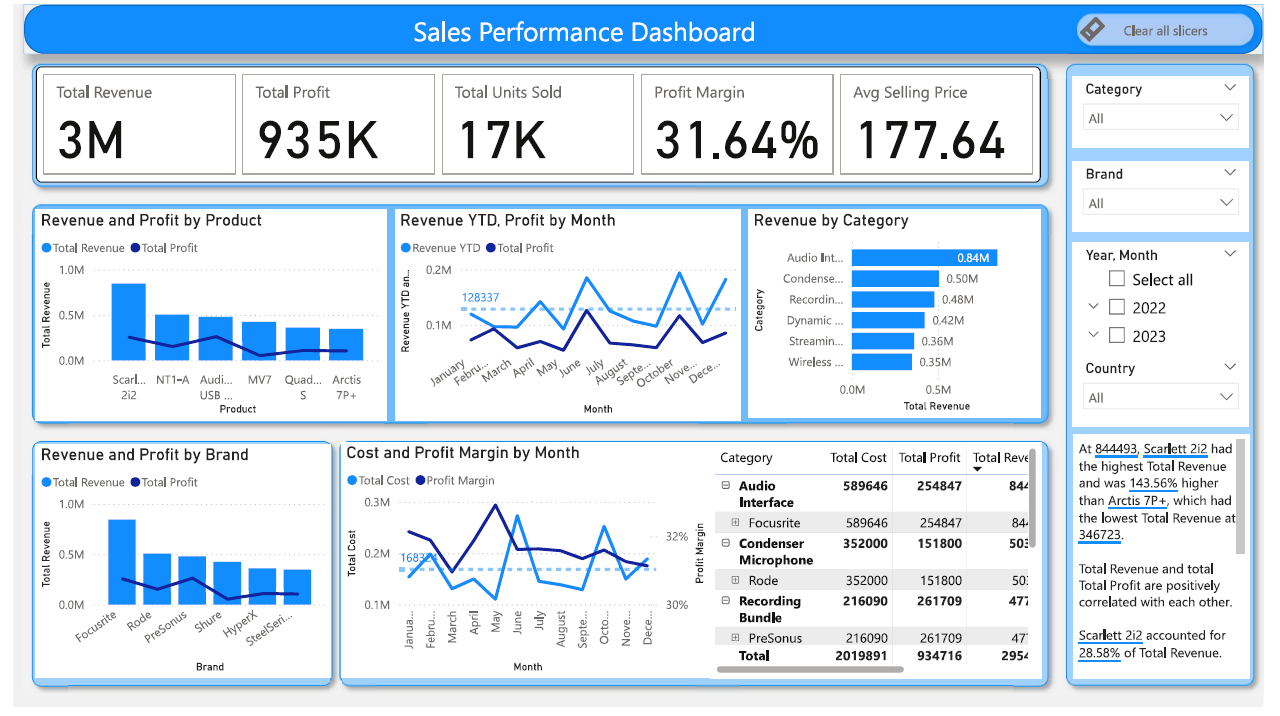

What the dashboard file says about the page in this screenshot:
{"tool":"powerbi","page":{"name":"Sales Performance DB","canvas":[1280,720],"ordinal":0},"visuals":[{"type":"shape","box":[10,0,1270.1,52.2],"z":0},{"type":"shape","box":[1068.6,52.2,211.5,654.3],"z":1000},{"type":"shape","box":[9.6,52.1,1059.4,144.1],"z":2000},{"type":"shape","box":[9.6,196.2,1059.4,241.5],"z":3000},{"type":"shape","box":[9.6,437.7,326.6,269],"z":4000},{"type":"shape","box":[325.2,437.7,743.7,269],"z":5000},{"type":"cardVisual","fields":{"Data":["Calculations.Total Revenue","Calculations.Total Profit","Calculations.Total Units Sold","Calculations.Profit Margin","Calculations.Avg Selling Price"]},"box":[23.3,64.5,1029.2,118],"z":6000},{"type":"lineStackedColumnComboChart","title":"Revenue and Profit by Product","fields":{"Category":["Complied_File.Product"],"Y":["Calculations.Total Revenue"],"Y2":["Calculations.Total Profit"]},"box":[23.3,211,358.3,214.7],"z":7000},{"type":"clusteredBarChart","title":"Revenue by Category","fields":{"Category":["Complied_File.Category"],"Y":["Calculations.Total Revenue"]},"box":[753.3,211.3,299.1,211.3],"z":8000},{"type":"slicer","fields":{"Values":["Complied_File.Country"]},"box":[1084.9,360.5,180.2,72.1],"z":9000},{"type":"slicer","fields":{"Values":["Calculations.Date.Variation.Date Hierarchy.Year","Calculations.Date.Variation.Date Hierarchy.Month"]},"box":[1084.9,244.2,180.2,116.3],"z":10000},{"type":"lineChart","title":"Revenue YTD, Profit by Month","fields":{"Category":["Calculations.Date.Variation.Date Hierarchy.Month"],"Y":["Calculations.Revenue YTD","Calculations.Total Profit"]},"box":[391.4,211,352.1,214.7],"z":11000},{"type":"slicer","fields":{"Values":["Complied_File.Brand"]},"box":[1085.4,160.5,179.8,72.7],"z":12000},{"type":"slicer","fields":{"Values":["Complied_File.Category"]},"box":[1085.4,74.1,179.8,72.7],"z":13000},{"type":"lineChart","title":"Cost and Profit Margin by Month","fields":{"Category":["Calculations.Date.Variation.Date Hierarchy.Month"],"Y":["Calculations.Total Cost"],"Y2":["Calculations.Profit Margin"]},"box":[336.2,448.7,377.4,241.5],"z":14000},{"type":"pivotTable","fields":{"Rows":["Complied_File.Category","Complied_File.Brand","Complied_File.Product"],"Values":["Calculations.Total Cost","Calculations.Total Profit","Calculations.Total Revenue","Calculations.Total Units Sold"]},"box":[714.1,449.1,338.7,241.7],"z":15000},{"type":"lineClusteredColumnComboChart","title":"Revenue and Profit by Brand","fields":{"Category":["Complied_File.Brand"],"Y":["Calculations.Total Revenue"],"Y2":["Calculations.Total Profit"]},"box":[23.3,451.5,301.9,238.8],"z":16000},{"type":"textbox","box":[325.2,4.1,520.1,48],"z":17000},{"type":"actionButton","box":[1079.9,1.4,200.3,49.4],"z":18000},{"type":"textbox","box":[1086,440.7,180.2,250],"z":19000}]}

Visuals, with their boxes in screenshot pixels (x1, y1, x2, y2), scaled from the page's 1280x720 canvas onto the 1280x716 screenshot:
shape: box=[10, 0, 1279, 52]
shape: box=[1069, 52, 1279, 703]
shape: box=[10, 52, 1069, 195]
shape: box=[10, 195, 1069, 435]
shape: box=[10, 435, 336, 703]
shape: box=[325, 435, 1069, 703]
cardVisual - Calculations.Total Revenue x Calculations.Total Profit: box=[23, 64, 1052, 181]
"Revenue and Profit by Product" lineStackedColumnComboChart: box=[23, 210, 382, 423]
"Revenue by Category" clusteredBarChart: box=[753, 210, 1052, 420]
slicer - Complied_File.Country: box=[1085, 358, 1265, 430]
slicer - Calculations.Date.Variation.Date Hierarchy.Year x Calculations.Date.Variation.Date Hierarchy.Month: box=[1085, 243, 1265, 358]
"Revenue YTD, Profit by Month" lineChart: box=[391, 210, 744, 423]
slicer - Complied_File.Brand: box=[1085, 160, 1265, 232]
slicer - Complied_File.Category: box=[1085, 74, 1265, 146]
"Cost and Profit Margin by Month" lineChart: box=[336, 446, 714, 686]
pivotTable - Complied_File.Category x Complied_File.Brand: box=[714, 447, 1053, 687]
"Revenue and Profit by Brand" lineClusteredColumnComboChart: box=[23, 449, 325, 686]
textbox: box=[325, 4, 845, 52]
actionButton: box=[1080, 1, 1279, 51]
textbox: box=[1086, 438, 1266, 687]
